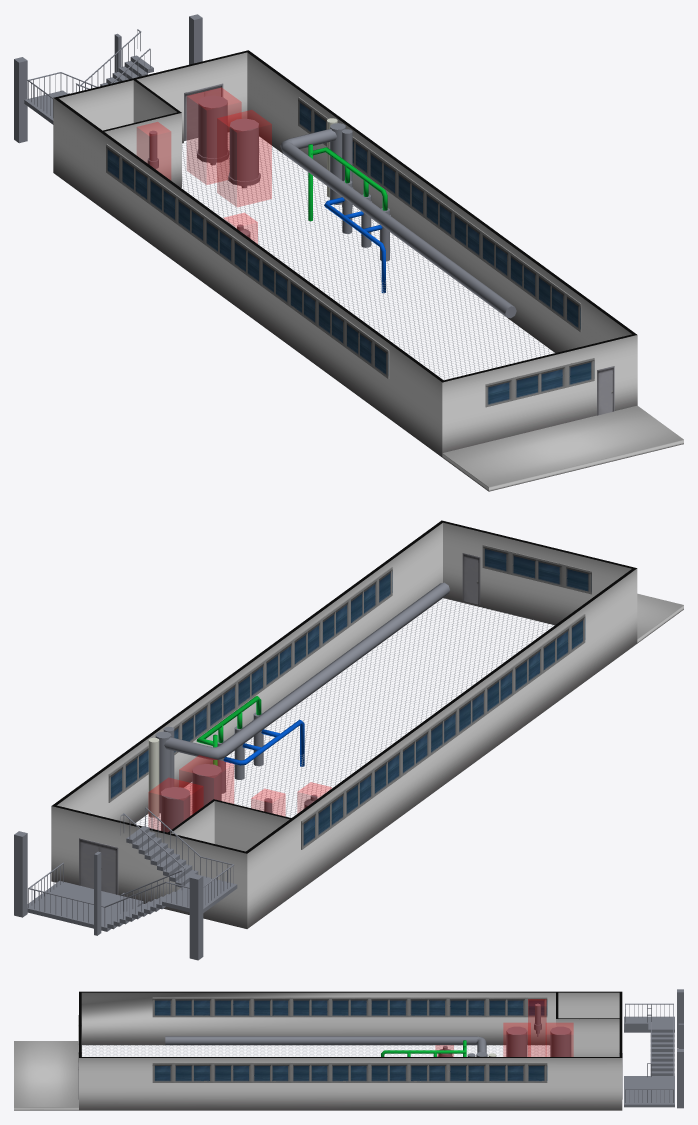
Rendered from soulbrain_T5-1-4F-2.glb.
The picture shows the model from 3 angles, top to bottom: view 1: azimuth 30°, elevation 25°; view 2: azimuth 150°, elevation 25°; view 3: azimuth 270°, elevation 25°; orthographic projection. The views are drawn at different scales.
Parts seen in each view (by area): view 1: T5-1-4F-2 (1), Rectangle1022, T5-1-4F-2, equipment-T5-1-4F-2-003, Line862, equipment-T5-1-4F-2-004, Box163, equipment-T5-1-4F-2-002, Line864, Line855; view 2: T5-1-4F-2 (1), Rectangle1022, T5-1-4F-2, Line862, Box163, equipment-T5-1-4F-2-003, equipment-T5-1-4F-2-004, Line864, Line855, equipment-T5-1-4F-2-002; view 3: T5-1-4F-2 (1), Line862, Rectangle1022, T5-1-4F-2, equipment-T5-1-4F-2-002, equipment-T5-1-4F-2-003, equipment-T5-1-4F-2-004, Line855.
Part boxes in pixels (left/top/right/bottom): T5-1-4F-2 (1): left=14, top=14, right=683, bottom=491; Rectangle1022: left=181, top=132, right=553, bottom=379; T5-1-4F-2: left=147, top=95, right=390, bottom=261; equipment-T5-1-4F-2-003: left=217, top=110, right=271, bottom=206; Line862: left=280, top=129, right=516, bottom=318; equipment-T5-1-4F-2-004: left=187, top=87, right=241, bottom=184; Box163: left=184, top=83, right=614, bottom=415; equipment-T5-1-4F-2-002: left=137, top=122, right=170, bottom=179; Line864: left=324, top=197, right=385, bottom=293; Line855: left=311, top=147, right=387, bottom=210; T5-1-4F-2 (1): left=14, top=520, right=683, bottom=960; Rectangle1022: left=136, top=598, right=554, bottom=829; T5-1-4F-2: left=148, top=712, right=317, bottom=832; Line862: left=164, top=582, right=449, bottom=759; Box163: left=79, top=553, right=480, bottom=894; equipment-T5-1-4F-2-003: left=179, top=755, right=233, bottom=814; equipment-T5-1-4F-2-004: left=148, top=778, right=203, bottom=832; Line864: left=223, top=719, right=304, bottom=766; Line855: left=196, top=696, right=261, bottom=745; equipment-T5-1-4F-2-002: left=251, top=789, right=285, bottom=815; T5-1-4F-2 (1): left=14, top=989, right=683, bottom=1110; Line862: left=165, top=1036, right=486, bottom=1052; Rectangle1022: left=82, top=1045, right=549, bottom=1056; T5-1-4F-2: left=437, top=1003, right=571, bottom=1056; equipment-T5-1-4F-2-002: left=528, top=999, right=546, bottom=1056; equipment-T5-1-4F-2-003: left=503, top=1023, right=530, bottom=1056; equipment-T5-1-4F-2-004: left=546, top=1023, right=573, bottom=1056; Line855: left=381, top=1046, right=466, bottom=1056.
Size of the model in its own units: 9.07 by 5.05 by 38.2.
Materials: 14 (10 with a texture image).
